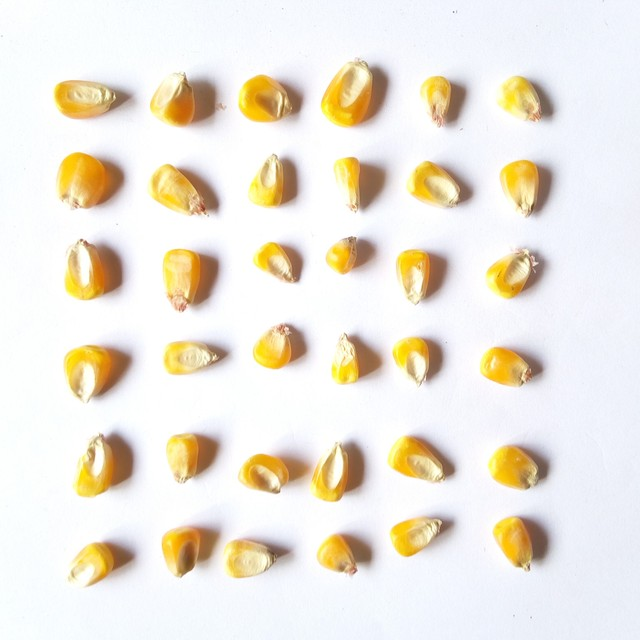maiz: (320, 54, 381, 132), (383, 429, 456, 486), (59, 341, 120, 406), (53, 236, 111, 303), (67, 430, 122, 500), (143, 158, 209, 216), (492, 157, 553, 219), (51, 148, 111, 211), (155, 243, 207, 315), (400, 153, 465, 210), (233, 67, 296, 125), (483, 439, 547, 494), (489, 513, 542, 578), (486, 242, 542, 302), (150, 69, 205, 130), (386, 332, 442, 391), (391, 244, 441, 309), (50, 76, 121, 121), (491, 73, 550, 127), (61, 535, 116, 591), (386, 513, 451, 560), (414, 71, 460, 134), (310, 439, 353, 506), (159, 522, 207, 581), (246, 150, 290, 214), (326, 151, 370, 214), (238, 451, 294, 500), (163, 426, 207, 488), (220, 534, 278, 581), (476, 344, 536, 389), (316, 527, 364, 583), (248, 239, 305, 286), (327, 330, 369, 393), (160, 336, 222, 377), (250, 322, 297, 372), (326, 229, 365, 275)
